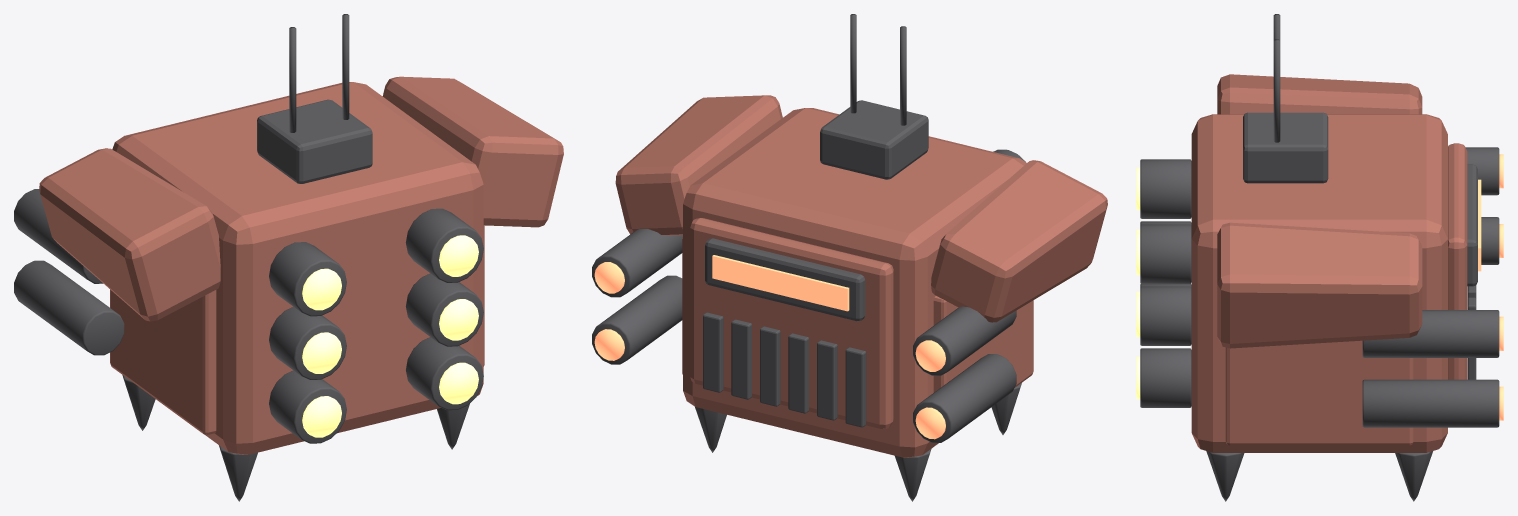
File: boss_koloss.glb
3 renders of one model, left to right at view 1: azimuth 30°, elevation 25°; view 2: azimuth 150°, elevation 25°; view 3: azimuth 270°, elevation 25°, orthographic. The views are drawn at different scales.
Parts seen in each view (by area): view 1: Kern.003, Schulter-1.001, Schulter1.001, Panzerplatte-1, Turm.001, Kanone-1-0.5, Triebwerk10.8, Triebwerk-10.8, Triebwerk-1-0.8, Triebwerk1-0.8, Triebwerk10, Triebwerk-10 (+12 smaller); view 2: Kern.003, Schulter-1.001, Brust, Schulter1.001, Turm.001, Visierrahmen.001, Kanone-1-0.5, Kanone1-0.5, Visier.001, Panzerplatte-1, Kanone-10.4, Kanone10.4 (+15 smaller); view 3: Kern.003, Schulter1.001, Panzerplatte1, Schulter-1.001, Kanone1-0.5, Turm.001, Kanone10.4, Brust, Triebwerk1-0.8, Triebwerk10, Triebwerk10.8, Triebwerk-10.8 (+6 smaller).
Part boxes in pixels (<box>): Kern.003: <box>112,82,483,454</box>; Schulter-1.001: <box>39,148,220,321</box>; Schulter1.001: <box>382,76,563,227</box>; Panzerplatte-1: <box>110,289,216,434</box>; Turm.001: <box>257,99,372,183</box>; Kanone-1-0.5: <box>14,260,124,355</box>; Triebwerk10.8: <box>405,208,483,282</box>; Triebwerk-10.8: <box>269,242,346,316</box>; Triebwerk-1-0.8: <box>269,370,346,443</box>; Triebwerk1-0.8: <box>406,337,483,410</box>; Triebwerk10: <box>405,273,483,346</box>; Triebwerk-10: <box>269,307,346,379</box>; Kern.003: <box>683,108,1026,457</box>; Schulter-1.001: <box>931,160,1107,322</box>; Brust: <box>690,218,893,428</box>; Schulter1.001: <box>615,95,782,235</box>; Turm.001: <box>820,100,928,179</box>; Visierrahmen.001: <box>705,238,865,321</box>; Kanone-1-0.5: <box>913,354,1016,442</box>; Kanone1-0.5: <box>592,275,682,364</box>; Visier.001: <box>712,255,849,311</box>; Panzerplatte-1: <box>933,296,1033,392</box>; Kanone-10.4: <box>913,306,1016,375</box>; Kanone10.4: <box>592,229,682,297</box>; Kern.003: <box>1191,114,1447,452</box>; Schulter1.001: <box>1217,222,1422,348</box>; Panzerplatte1: <box>1225,340,1413,445</box>; Schulter-1.001: <box>1217,74,1422,114</box>; Kanone1-0.5: <box>1362,379,1499,427</box>; Turm.001: <box>1243,112,1328,183</box>; Kanone10.4: <box>1362,310,1499,357</box>; Brust: <box>1448,143,1467,379</box>; Triebwerk1-0.8: <box>1140,348,1191,407</box>; Triebwerk10: <box>1140,286,1191,345</box>; Triebwerk10.8: <box>1140,224,1191,283</box>; Triebwerk-10.8: <box>1140,159,1191,218</box>.
Bounding box in the file's own units: 5.75 × 5.47 × 4.29.
